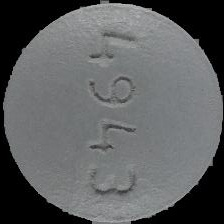53808-0885: (0, 0, 224, 224)
